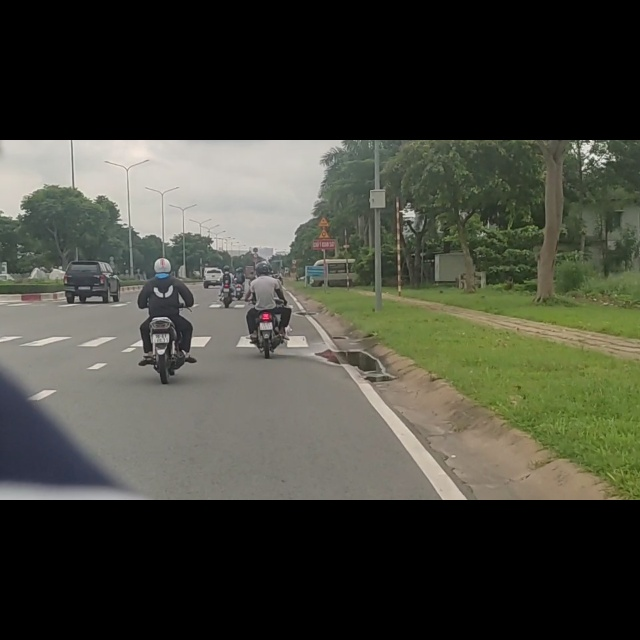bien_cam: (317, 135, 331, 155), (317, 159, 332, 175), (252, 191, 259, 200)
